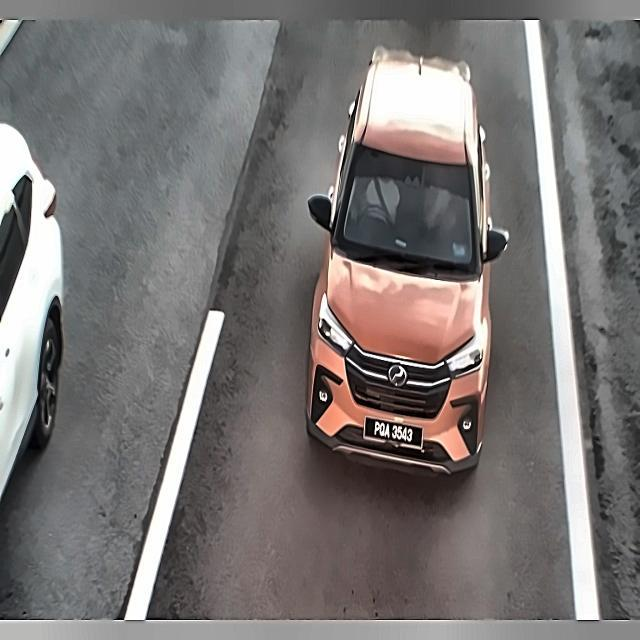car: (358, 405, 432, 456)
